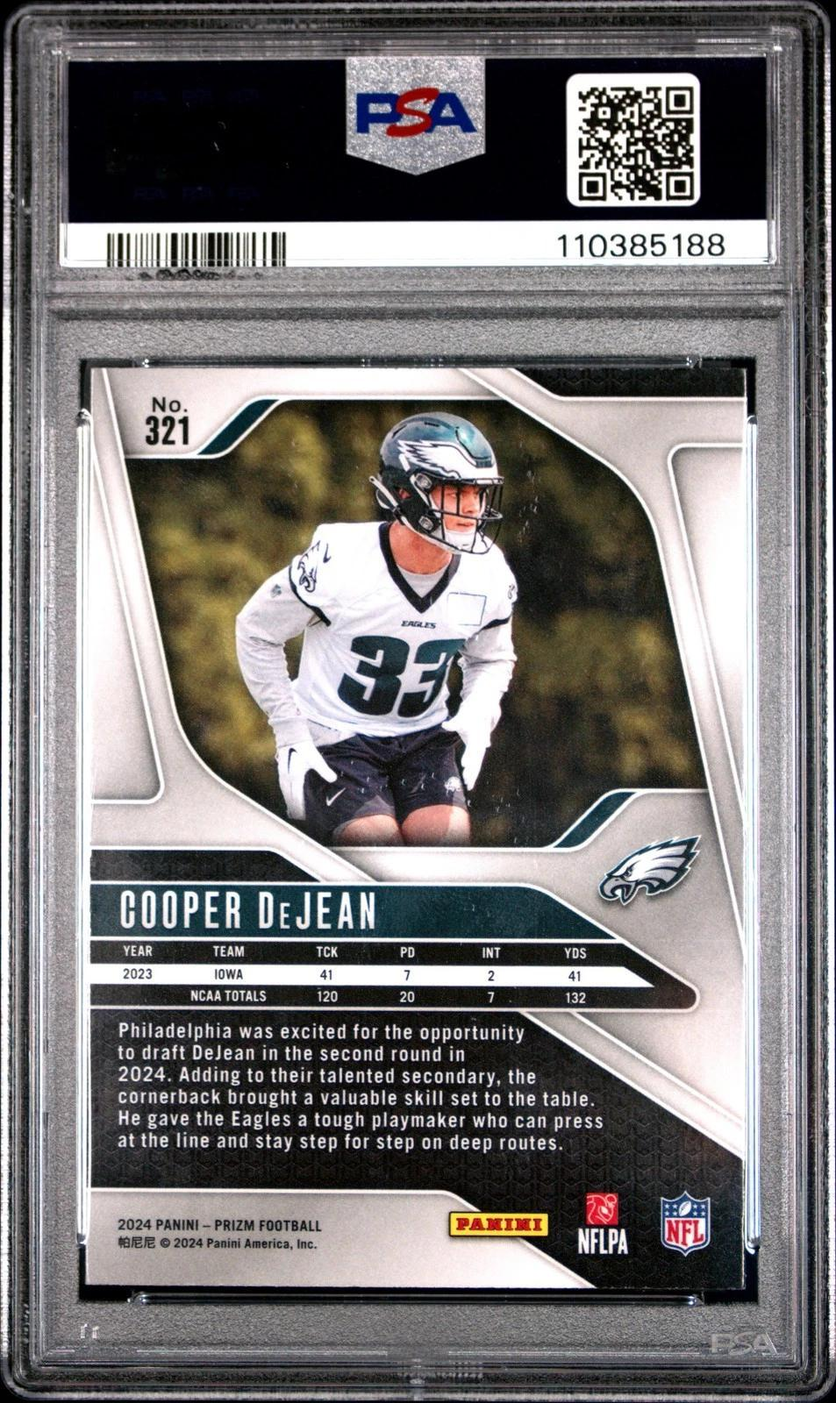card-2UtV: (84, 364, 749, 1291)
